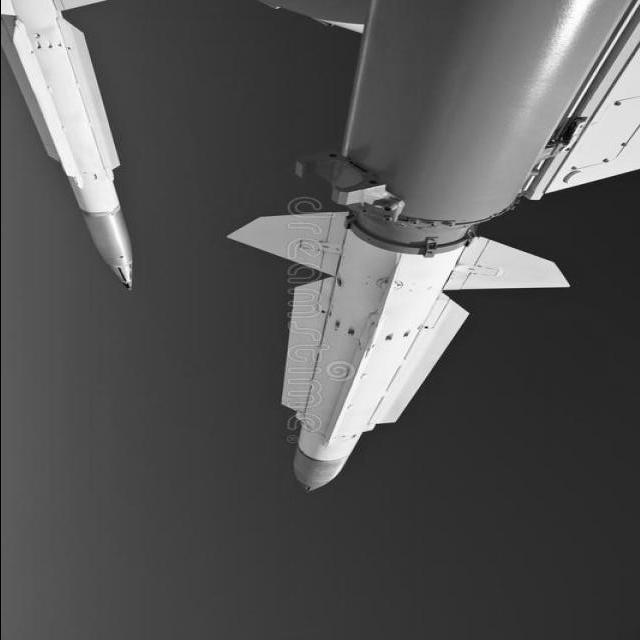missile: (10, 2, 146, 300)
